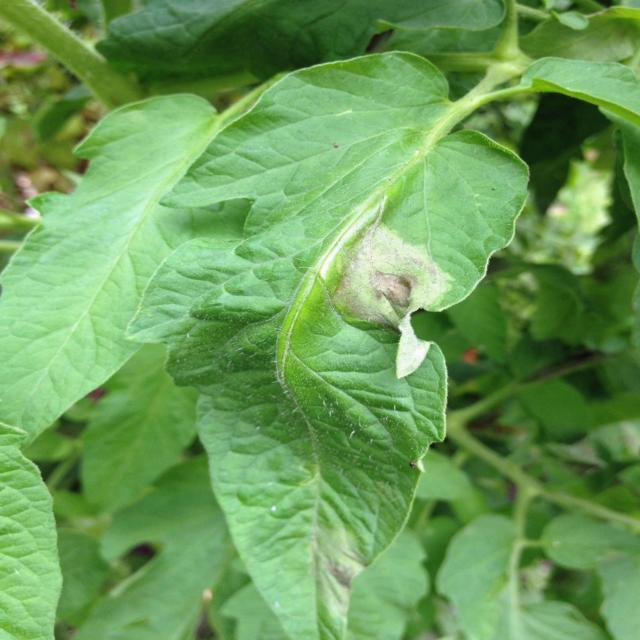Late_blight: (322, 212, 456, 375), (308, 525, 372, 630)
